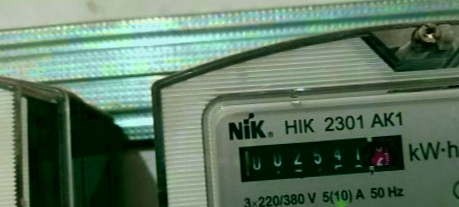0: (247, 150, 262, 172), (268, 147, 282, 169)
1: (349, 140, 361, 163)
2: (288, 145, 303, 167)
4: (329, 141, 341, 163)
5: (308, 143, 322, 167)
6: (372, 154, 384, 167)
screen: (223, 124, 415, 191)
